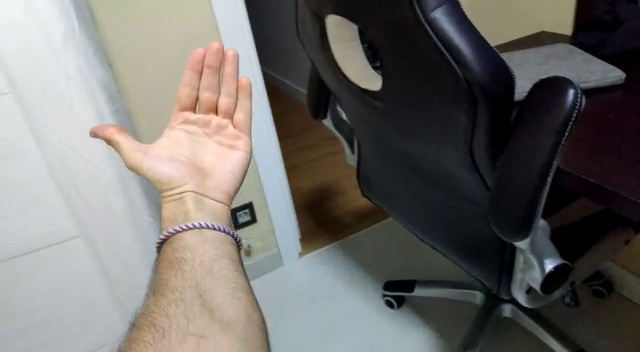Palm: (86, 41, 254, 191)
